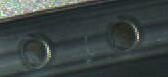joints: (105, 14, 143, 54), (19, 32, 53, 70)
